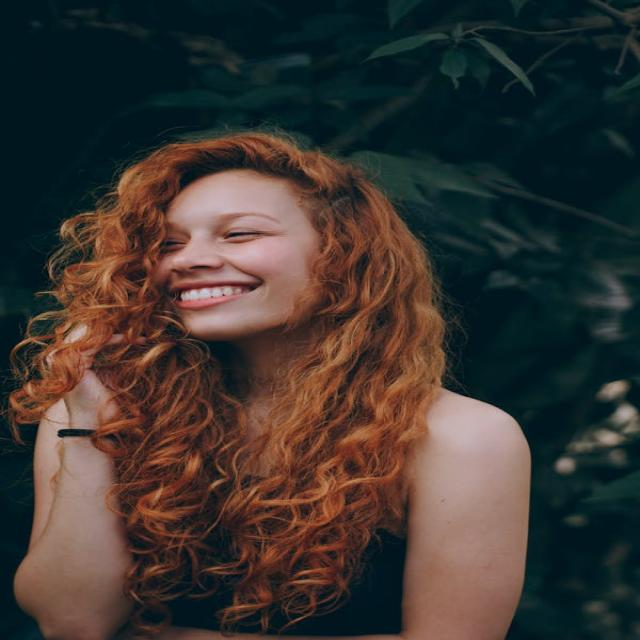no_mask: (102, 137, 388, 390)
